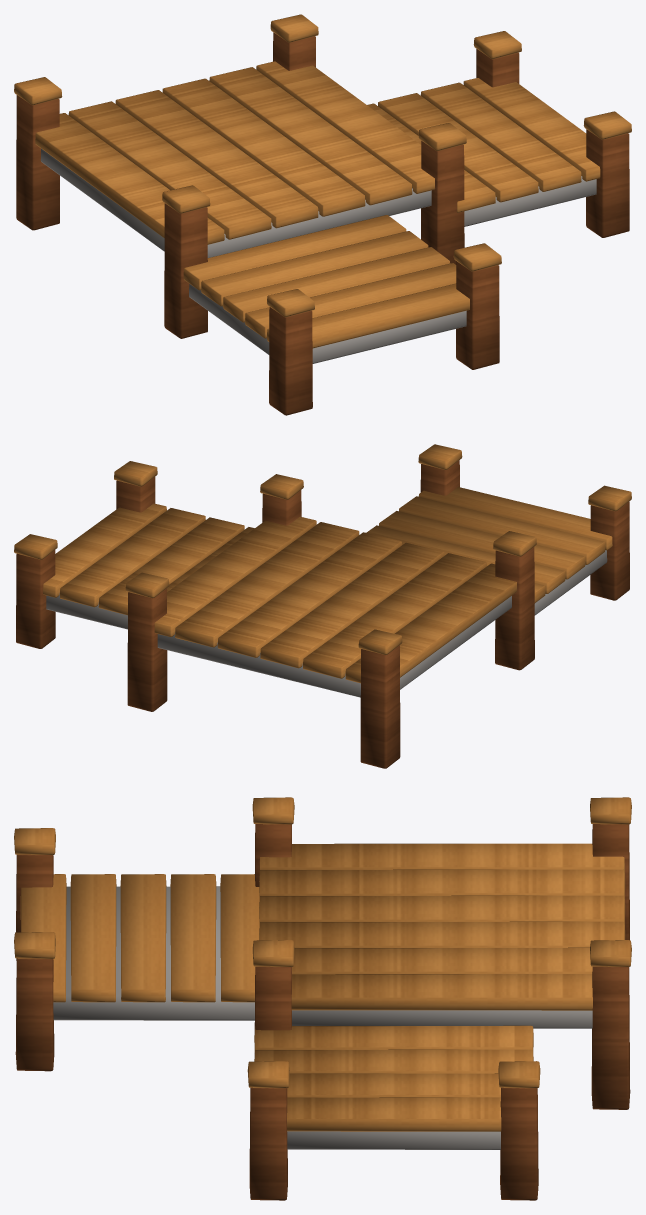
File: 25_dock_cluster.glb
3 renders of one model, top to bottom at view 1: azimuth 30°, elevation 25°; view 2: azimuth 150°, elevation 25°; view 3: azimuth 270°, elevation 25°, orthographic. The views are drawn at different scales.
Visible parts, largest first — view 1: Plank_2, Plank_3, Plank_4, Plank_1, Plank_5, Plank_0, Plank_23, SupportFrame, Plank_12, Post_2, Plank_42, Post_0 (+22 smaller); view 2: Plank_4, Plank_2, Plank_3, Plank_1, Plank_5, Plank_0, Plank_23, Post_0, SupportFrame, Post_1, Post_2, Plank_32 (+21 smaller); view 3: Plank_5, Plank_1, Plank_2, Plank_3, Plank_0, Plank_4, Plank_33, Plank_03, SupportFrame2, Plank_13, Plank_32, Plank_22 (+22 smaller).
Boxes of the visible parts, <box> form: Plank_2: <box>115,90,318,228</box>; Plank_3: <box>162,78,365,216</box>; Plank_4: <box>209,67,412,205</box>; Plank_1: <box>68,101,271,239</box>; Plank_5: <box>256,61,434,193</box>; Plank_0: <box>35,113,224,244</box>; Plank_23: <box>420,82,581,191</box>; SupportFrame: <box>40,148,431,257</box>; Plank_12: <box>201,231,428,306</box>; Post_2: <box>164,203,207,338</box>; Plank_42: <box>267,283,469,348</box>; Post_0: <box>16,95,59,230</box>; Plank_4: <box>175,522,359,647</box>; Plank_2: <box>260,542,444,668</box>; Plank_3: <box>217,532,401,657</box>; Plank_1: <box>303,553,486,678</box>; Plank_5: <box>154,516,316,636</box>; Plank_0: <box>345,563,516,683</box>; Plank_23: <box>60,508,205,607</box>; Post_0: <box>360,645,400,768</box>; SupportFrame: <box>157,596,511,697</box>; Post_1: <box>127,588,167,711</box>; Post_2: <box>495,547,534,670</box>; Plank_32: <box>399,496,604,564</box>; Plank_5: <box>291,974,592,1010</box>; Plank_1: <box>259,869,625,898</box>; Plank_2: <box>259,895,625,924</box>; Plank_3: <box>259,921,625,947</box>; Plank_0: <box>259,843,624,872</box>; Plank_4: <box>292,947,592,974</box>; Plank_33: <box>287,1097,501,1131</box>; Plank_03: <box>254,1025,533,1052</box>; SupportFrame2: <box>53,886,254,1020</box>; Plank_13: <box>254,1049,533,1073</box>; Plank_32: <box>70,874,116,1002</box>; Plank_22: <box>120,874,166,1002</box>.
Bounding box in the file's own units: 2.46 × 0.7125 × 2.56.
Materials: 3 (2 with a texture image).
